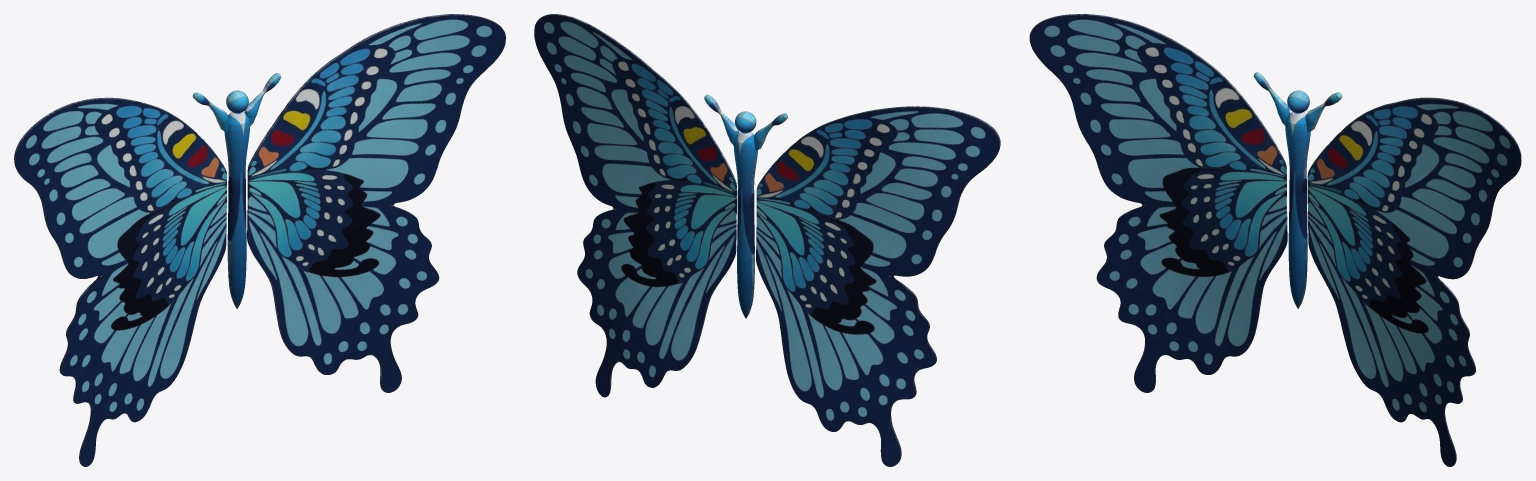
Rendered from butterfly_3d.glb.
The picture shows the model from 3 angles, left to right: view 1: azimuth 30°, elevation 25°; view 2: azimuth 150°, elevation 25°; view 3: azimuth 330°, elevation 25°; orthographic projection. The views are drawn at different scales.
Visible parts, largest first — view 1: wing_R, wing_L, body; view 2: wing_L, wing_R, body; view 3: wing_L, wing_R, body.
Part boxes in pixels (x1,y1,x2,y2): wing_R: [247, 14, 505, 392]; wing_L: [14, 97, 226, 466]; body: [192, 73, 281, 308]; wing_L: [756, 106, 1000, 466]; wing_R: [534, 14, 736, 397]; body: [704, 94, 787, 318]; wing_L: [1029, 14, 1287, 392]; wing_R: [1307, 97, 1521, 466]; body: [1253, 72, 1342, 308].
Bounding box in the file's own units: 7.23 × 5.32 × 0.7477.
1 material, 1 textured.
